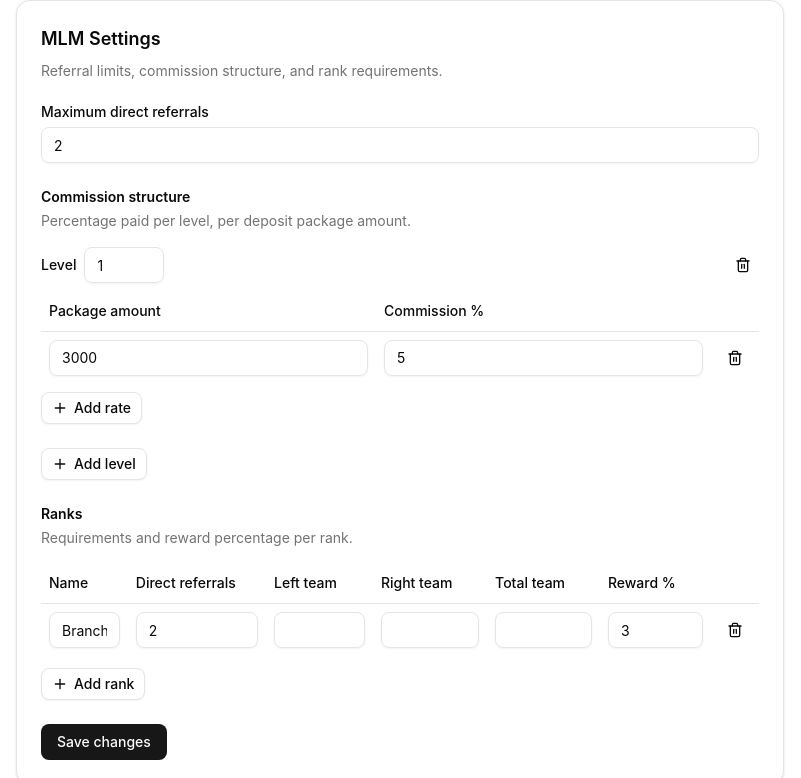
Scenario: MlmSettingsPage › adds a rank row
The image size is (801, 778).
Expected: the field named "Rank 1 name" is shown, [49,612,120,648]
Click the button "Add rank" at (93, 684), box [41,668,145,700]
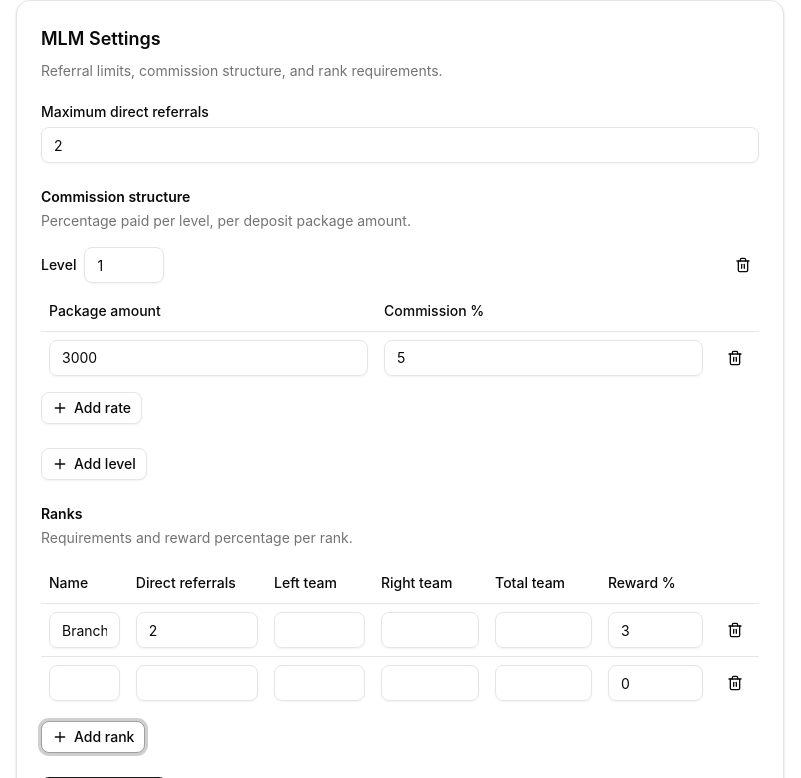
Expected: the number of fields named "Rank 1 name" is 2, [49,612,120,648]; [49,665,120,701]
